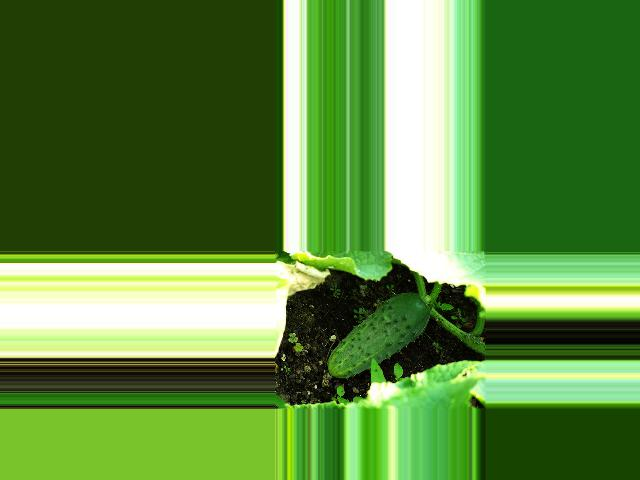cucumber: (327, 292, 431, 378)
